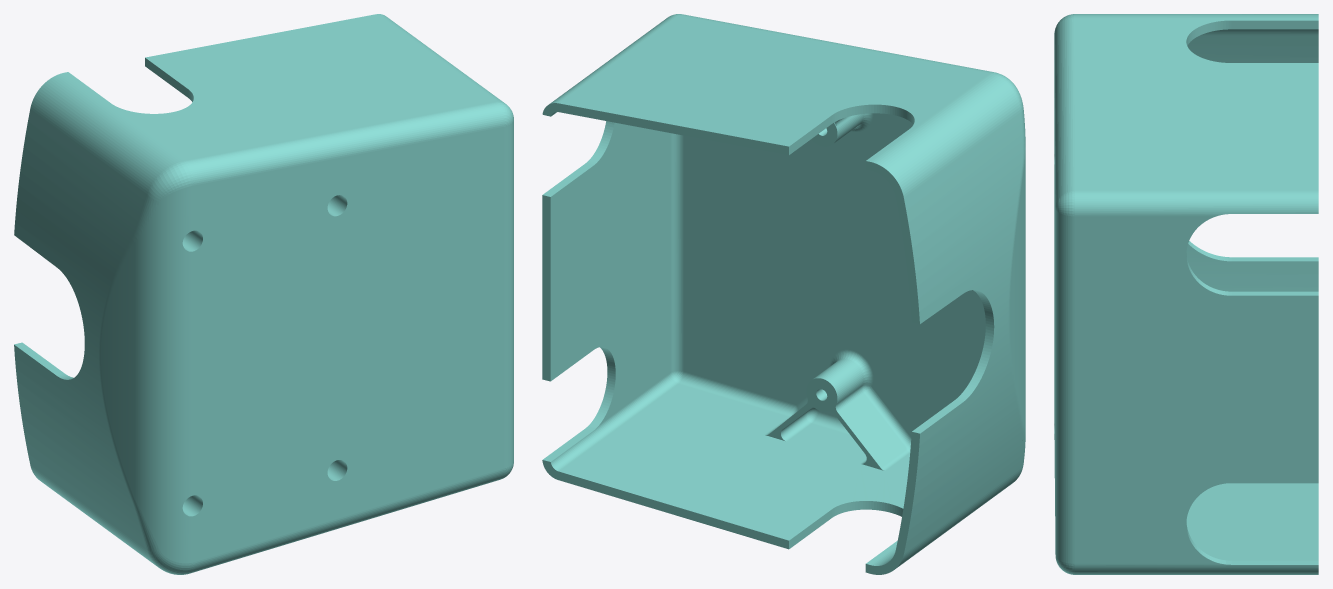
File: BODY - FLO-CHEST-01.dae
3 renders of one model, left to right at view 1: azimuth 30°, elevation 25°; view 2: azimuth 150°, elevation 25°; view 3: azimuth 270°, elevation 25°, orthographic.
Parts seen in each view (by area): view 1: 5c7feb9b181b29197230f17c; view 2: 5c7feb9b181b29197230f17c; view 3: 5c7feb9b181b29197230f17c.
Part boxes in pixels (x1=…): 5c7feb9b181b29197230f17c: x1=14, y1=14, x2=513, y2=574; 5c7feb9b181b29197230f17c: x1=542, y1=14, x2=1025, y2=574; 5c7feb9b181b29197230f17c: x1=1054, y1=14, x2=1318, y2=574.
Bounding box in the file's own units: 0.1154 × 0.0686 × 0.1198.
